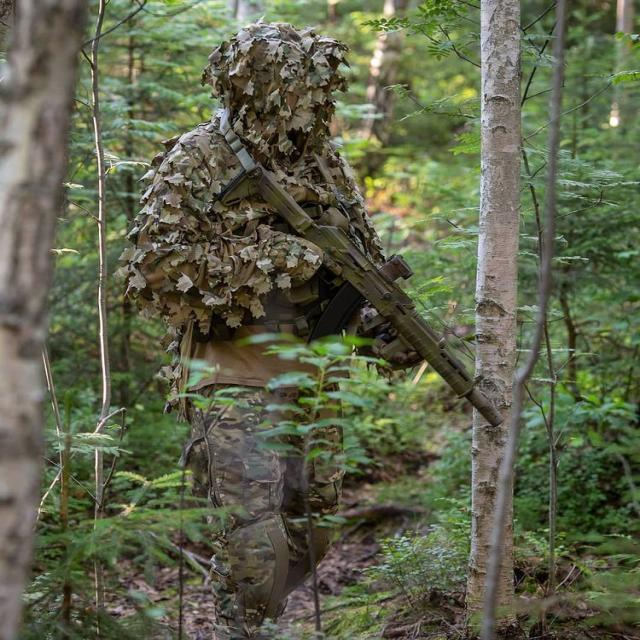Camouflage: (118, 11, 502, 624)
